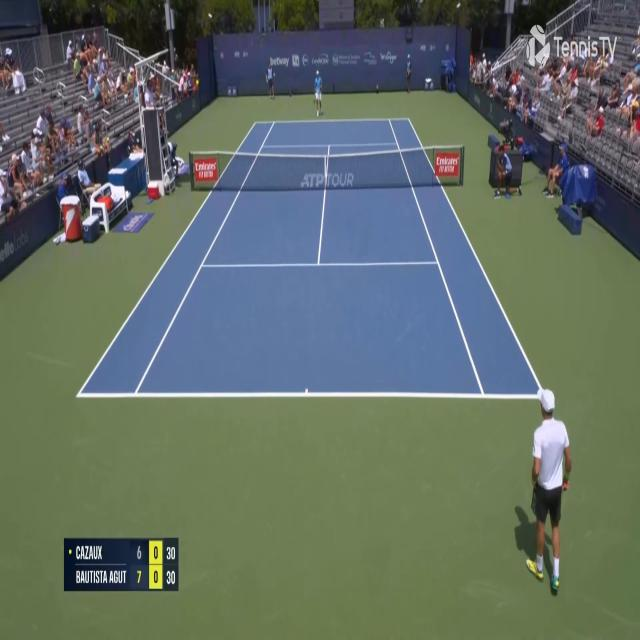tennis-player: (512, 387, 574, 590), (313, 67, 324, 118)
